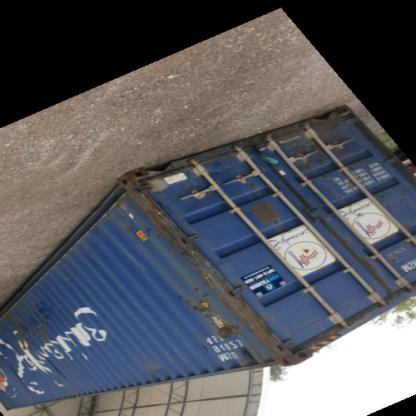Damage: (127, 202, 197, 264), (296, 126, 354, 174), (13, 308, 62, 352), (247, 316, 283, 358), (248, 196, 282, 230), (176, 288, 212, 320), (134, 357, 168, 388), (212, 320, 240, 348)
